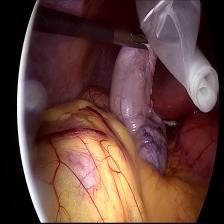Grasper: (119, 24, 149, 58)
Specimen Bag: (133, 0, 220, 115)
